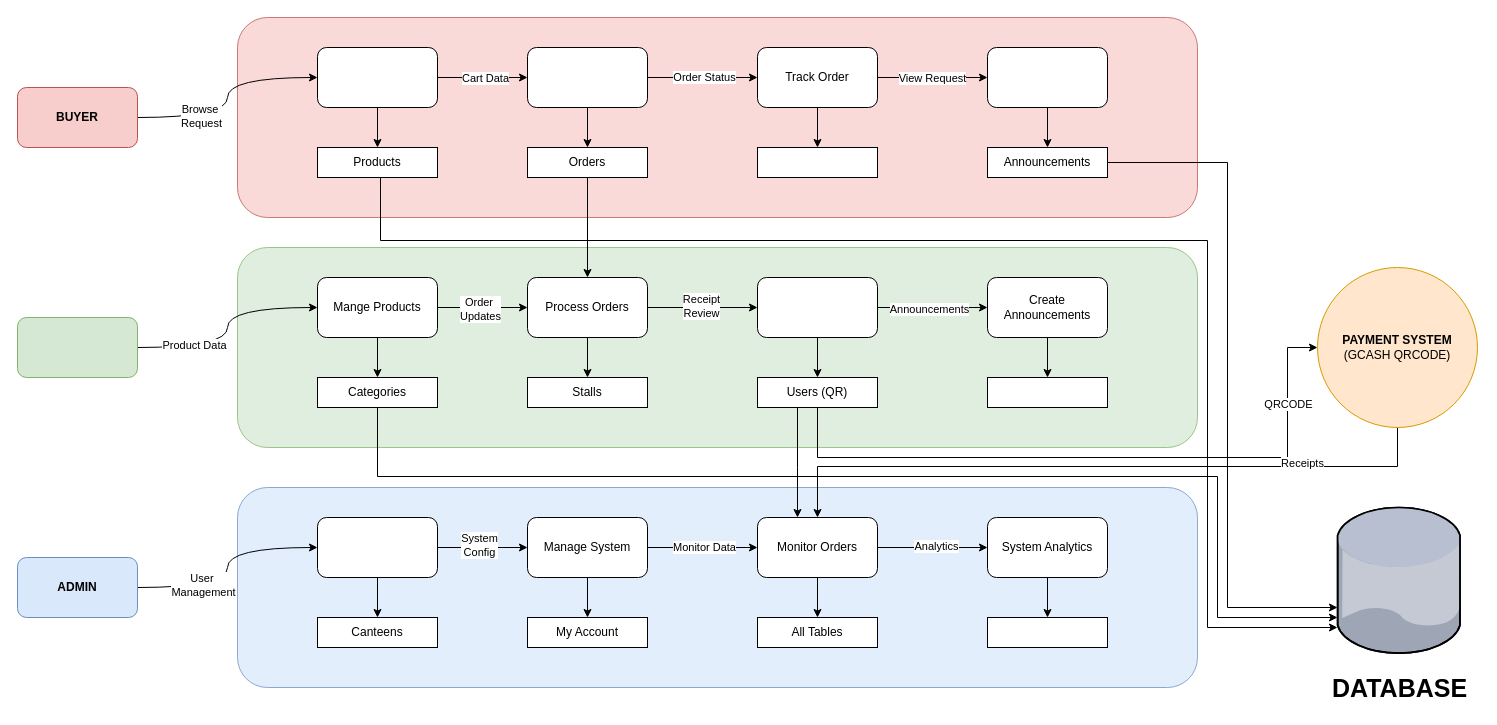
This 1497x725 diagram has some shape labels left out. The box of each missing label's shape, as (x1, y1, x2, y2) in pixels:
Announcement Reads: (986, 376, 1108, 408)
Browse & Select: (316, 46, 438, 108)
Manage Users: (316, 516, 438, 578)
Order Items: (756, 146, 878, 178)
Payment Verification: (756, 276, 878, 338)
Place Order: (526, 46, 648, 108)
Reports: (986, 616, 1108, 648)
SELLER: (16, 316, 138, 378)
View Annoucements: (986, 46, 1108, 108)
